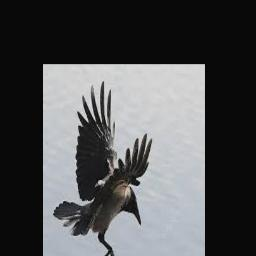Crow: (52, 80, 152, 256)
